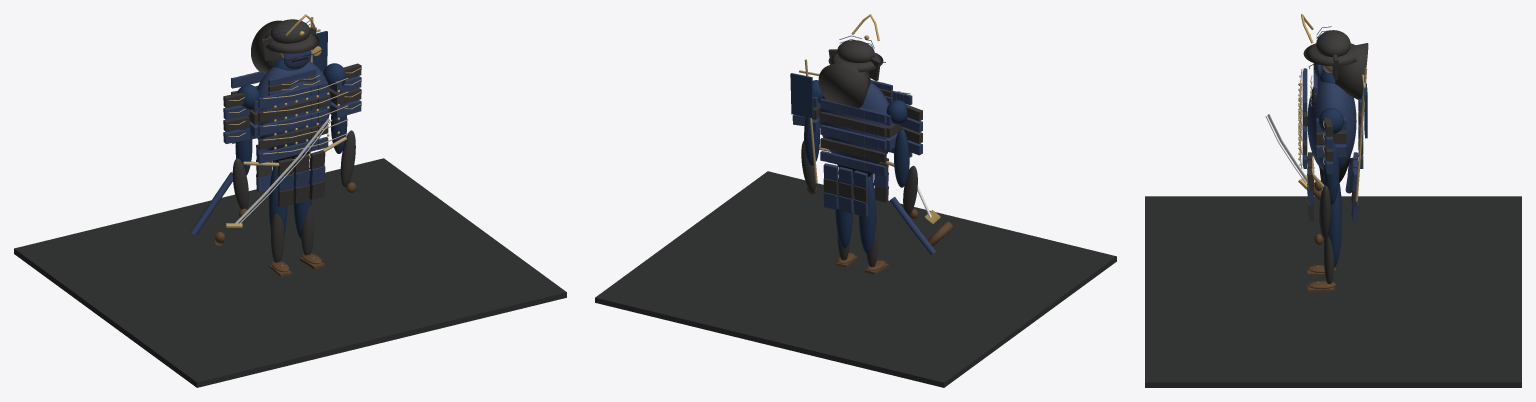
File: actor-uesugi-00.glb
3 views of the same model, side by side, from view 1: azimuth 30°, elevation 25°; view 2: azimuth 150°, elevation 25°; view 3: azimuth 270°, elevation 25° (orthographic). The views are drawn at different scales.
Visible parts, largest first — view 1: matte charcoal inspection plinth, rounded do cuirass silhouette, rear shikoro neck guard flare, segmented kabuto helmet bowl, right kote forearm guard, left kote forearm guard, wide kabuto brim, left shin greave, left hakama trouser leg, lacquered saya scabbard at left hip, right shin greave; view 2: matte charcoal inspection plinth, rear shikoro neck guard flare, rounded do cuirass silhouette, cloth sashimono banner panel, left hakama trouser leg, left armored upper arm, segmented kabuto helmet bowl, right hakama trouser leg, left kote forearm guard, right armored upper arm, lacquered saya scabbard at left hip; view 3: matte charcoal inspection plinth, rounded do cuirass silhouette, rear shikoro neck guard flare, segmented kabuto helmet bowl, right hakama trouser leg, wide kabuto brim, right armored upper arm, right kote forearm guard, right shin greave, right shoulder undercloth, bamboo sashimono back pole.
Part boxes in pixels (x1,y1,x2,y2): matte charcoal inspection plinth: [14, 158, 566, 387]; rounded do cuirass silhouette: [257, 61, 330, 150]; rear shikoro neck guard flare: [251, 20, 282, 74]; segmented kabuto helmet bowl: [270, 19, 310, 43]; right kote forearm guard: [340, 130, 355, 187]; left kote forearm guard: [232, 158, 248, 209]; wide kabuto brim: [261, 33, 319, 53]; left shin greave: [271, 213, 284, 262]; left hakama trouser leg: [269, 166, 287, 234]; lacquered saya scabbard at left hip: [190, 172, 232, 235]; right shin greave: [301, 205, 314, 255]; matte charcoal inspection plinth: [595, 171, 1116, 387]; rear shikoro neck guard flare: [818, 61, 870, 108]; rounded do cuirass silhouette: [819, 82, 888, 163]; cloth sashimono banner panel: [790, 73, 813, 118]; left hakama trouser leg: [859, 176, 876, 253]; left armored upper arm: [894, 129, 909, 187]; segmented kabuto helmet bowl: [837, 40, 874, 62]; right hakama trouser leg: [835, 180, 852, 248]; left kote forearm guard: [903, 165, 917, 215]; right armored upper arm: [804, 117, 819, 165]; lacquered saya scabbard at left hip: [889, 197, 935, 254]; matte charcoal inspection plinth: [1145, 196, 1521, 387]; rounded do cuirass silhouette: [1307, 78, 1356, 170]; rear shikoro neck guard flare: [1335, 43, 1368, 99]; segmented kabuto helmet bowl: [1316, 30, 1350, 56]; right hakama trouser leg: [1328, 189, 1341, 267]; wide kabuto brim: [1303, 43, 1356, 66]; right armored upper arm: [1323, 142, 1339, 204]; right kote forearm guard: [1319, 185, 1330, 238]; right shin greave: [1324, 234, 1334, 283]; right shoulder undercloth: [1319, 108, 1343, 134]; bamboo sashimono back pole: [1355, 68, 1367, 201].
Bounding box in the file's own units: 4.2 × 2.96 × 3.6.
